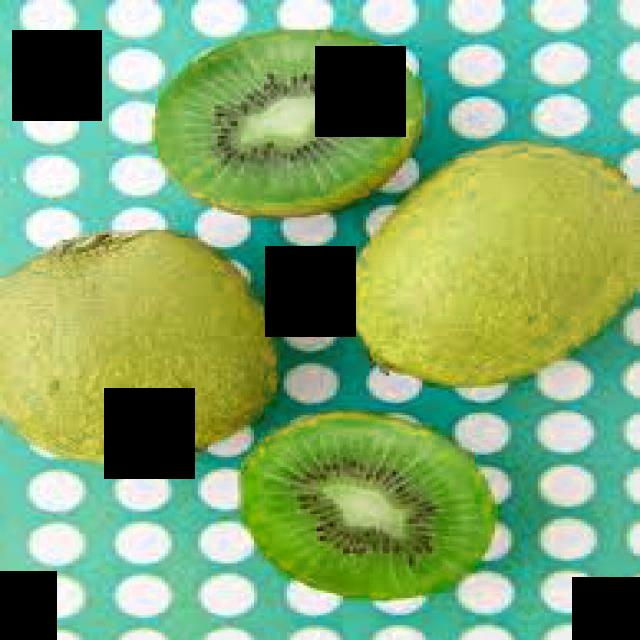kiwi: (347, 137, 638, 394), (4, 228, 288, 468)
